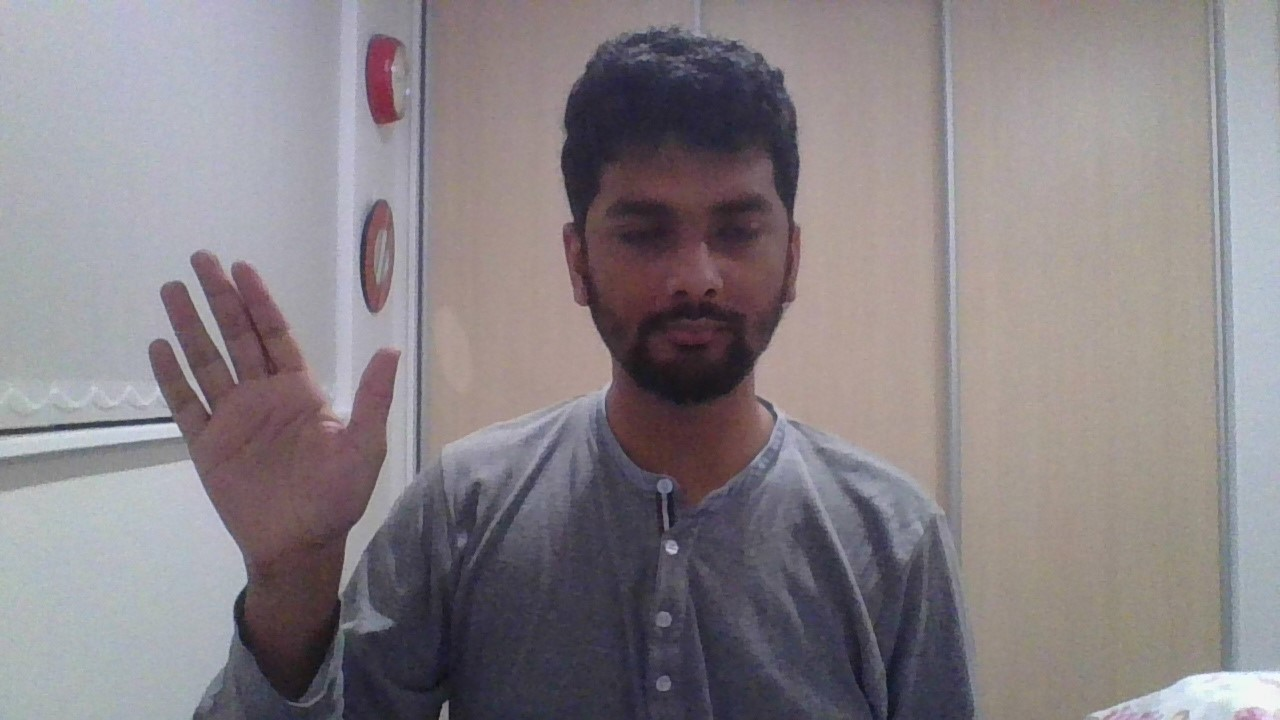hello: (147, 249, 401, 564)
